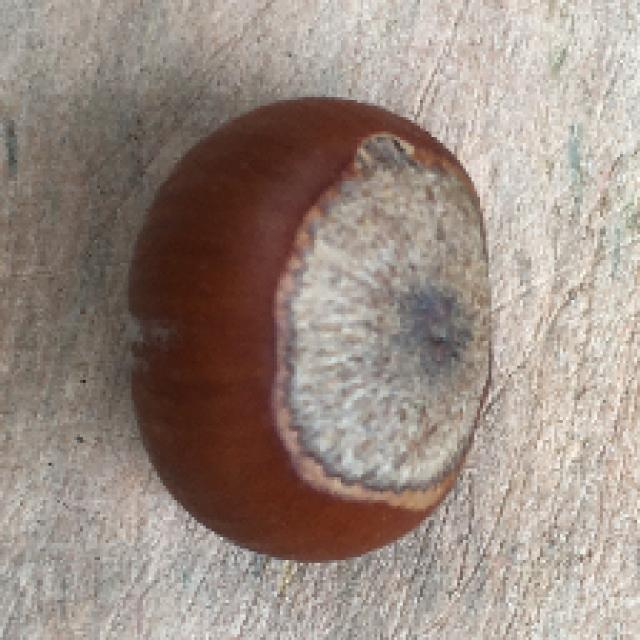qualityHazelnut: (128, 90, 495, 566)
